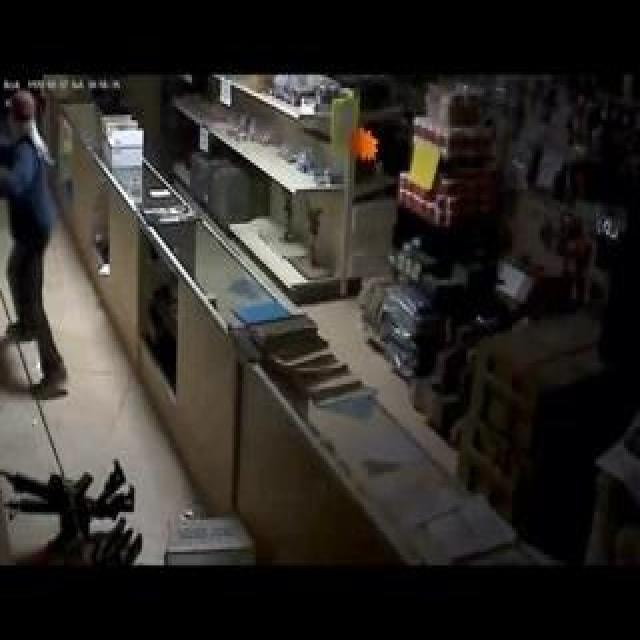thief: (5, 88, 64, 238)
